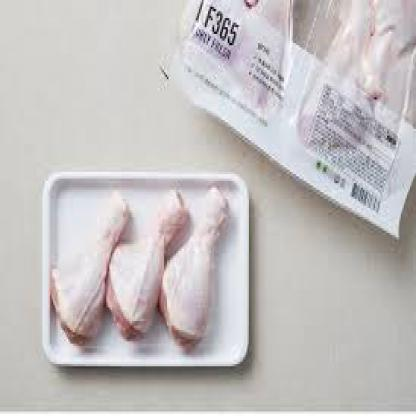chicken: (60, 197, 244, 350)
